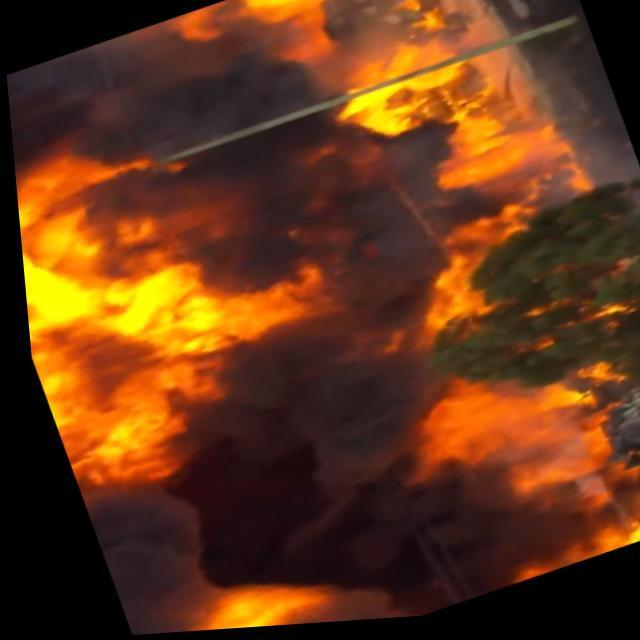fire: (0, 0, 622, 480)
